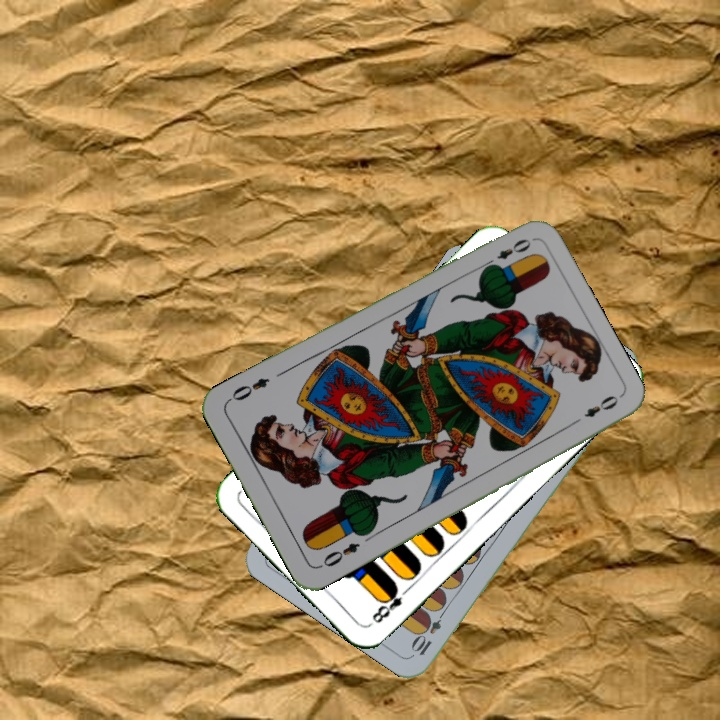E10: (409, 603, 450, 659)
E8: (368, 581, 414, 626)
EO: (480, 234, 534, 272), (315, 538, 363, 571)
